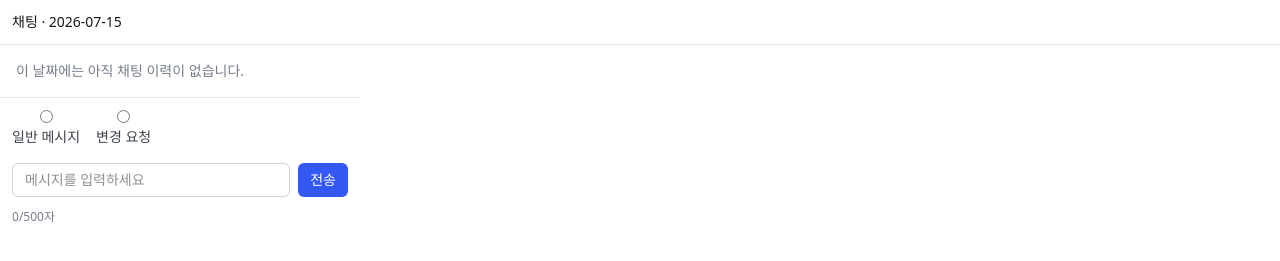
it: ChatPanel › 메시지 전송 성공 시 이력 목록이 자동으로 갱신됨(FE-08 완료 조건)
Check: the text "이 날짜에는 아직 채팅 이력이 없습니다." is shown, box [16, 61, 244, 80]
Step 1. Click the radio button labelled "일반 메시지" → point(46, 116), box [40, 110, 52, 123]
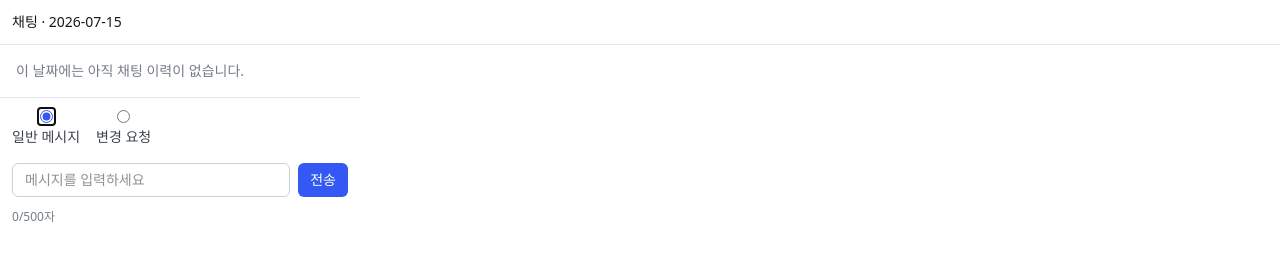
Step 2. Type "새로 보낸 메시지" into the field labelled "메시지" → point(151, 180), box [12, 163, 290, 197]
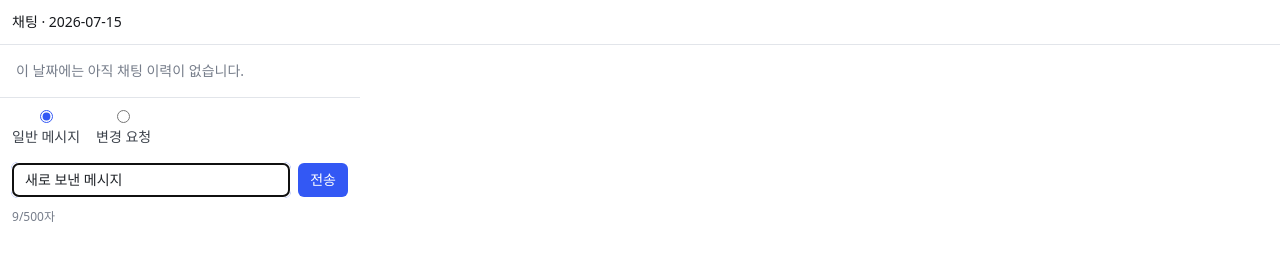
Step 3. Click the button "전송" → point(323, 180), box [298, 163, 348, 197]
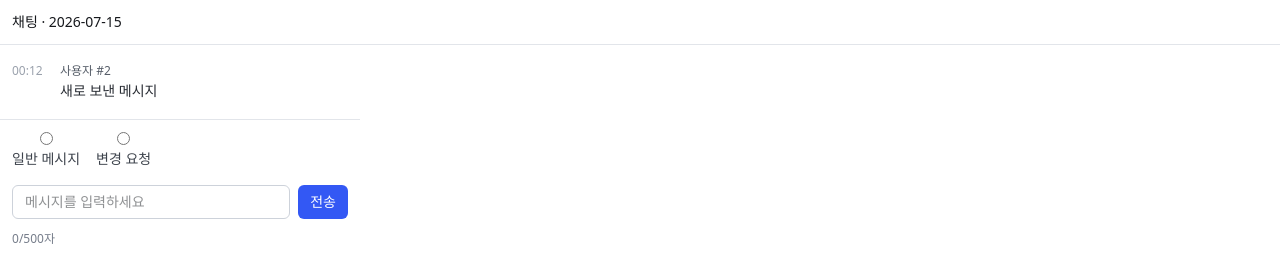
Check: the text "새로 보낸 메시지" is shown, box [60, 81, 158, 100]
